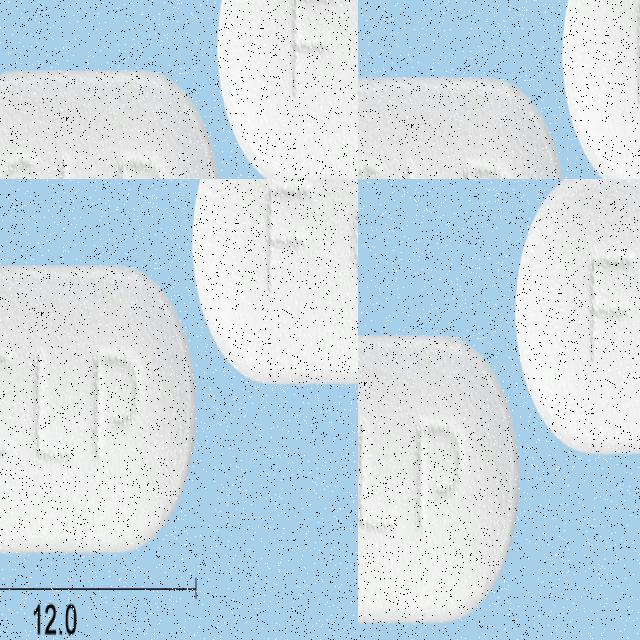Famcivir: (358, 334, 520, 622), (514, 179, 640, 453)
Heliclo Tab: (0, 273, 214, 556), (183, 179, 358, 370)
Levoable: (210, 0, 358, 161), (0, 91, 234, 179)
